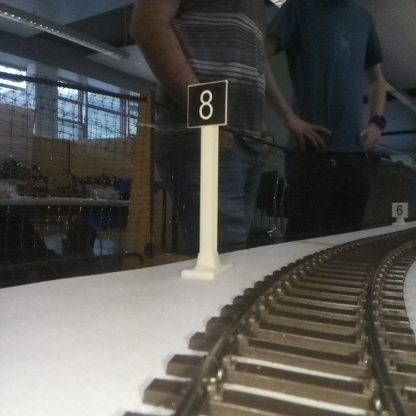black-info-8: (188, 82, 224, 277)
white-stop-6: (391, 202, 407, 227)
